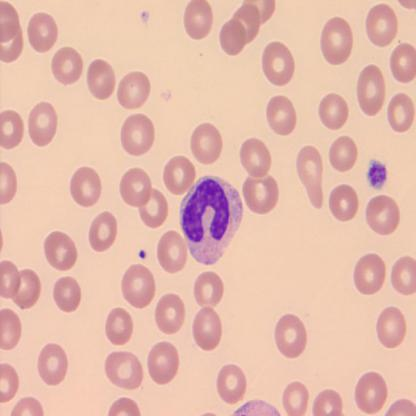Band Neutrophil: (178, 172, 246, 267)
